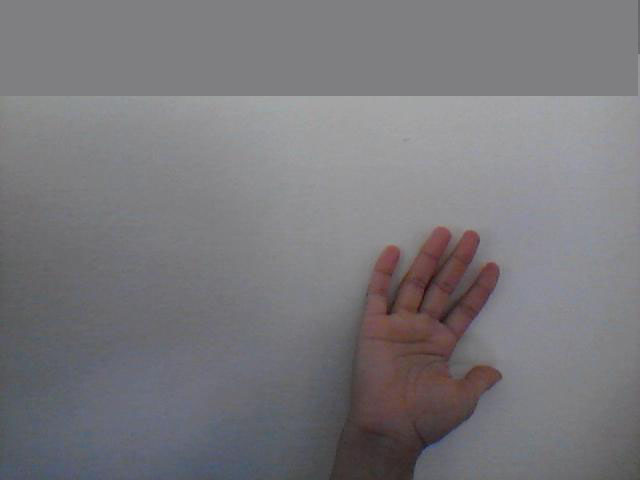hand: (344, 220, 520, 444)
